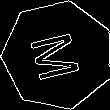M_E: (27, 27, 88, 83)
